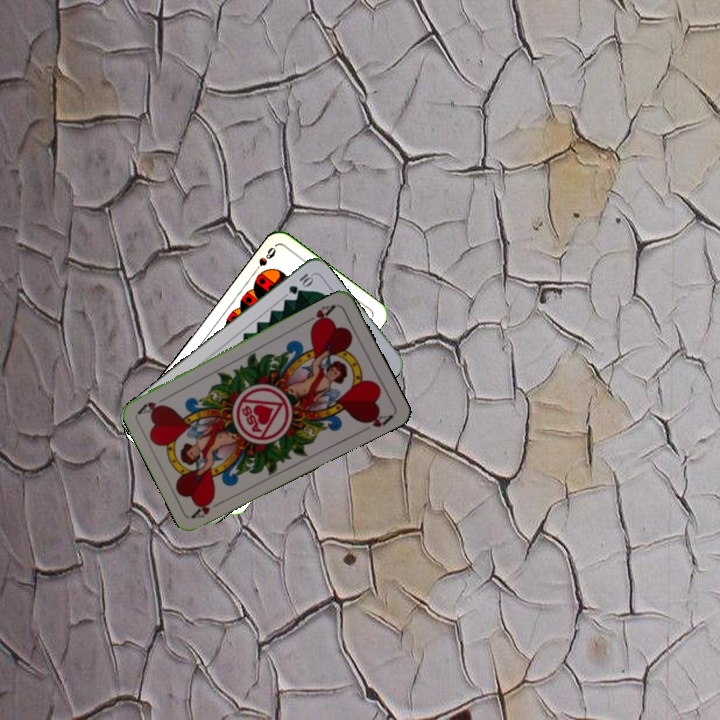G10: (284, 269, 316, 297)
HA: (302, 300, 338, 330), (189, 494, 227, 521)
S9: (249, 243, 279, 277)
